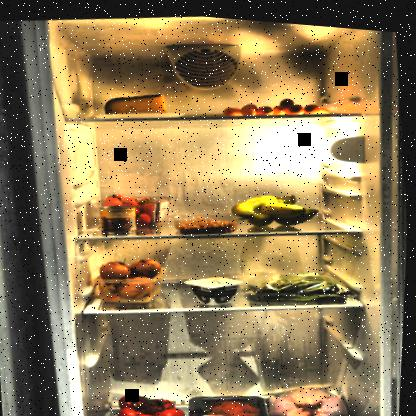banana: (227, 180, 322, 229)
beef: (207, 391, 266, 415)
carrot: (217, 82, 335, 123)
cheese: (101, 86, 173, 120)
chicken: (267, 373, 362, 415)
green_beans: (247, 257, 362, 308)
onion: (99, 250, 166, 302)
shrimp: (177, 207, 240, 235)
strawberries: (100, 186, 176, 235)
tomato: (115, 379, 195, 415)
